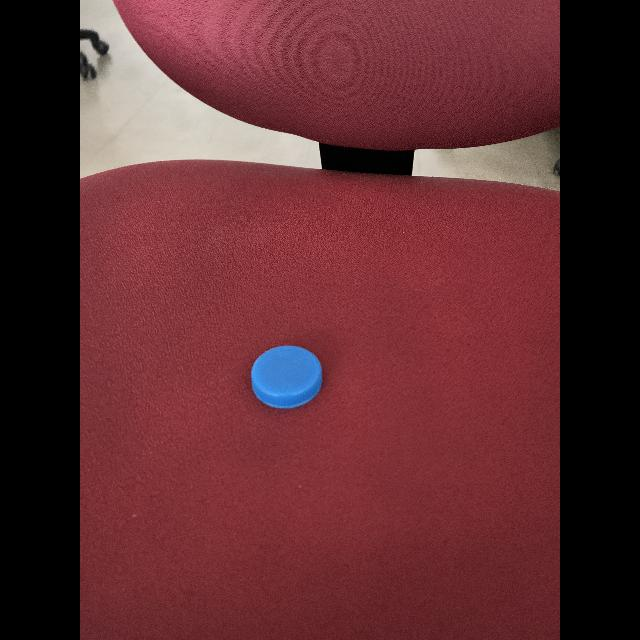plastic_bottle_cap: (247, 342, 327, 412)
